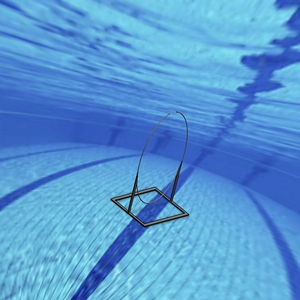circle: (110, 109, 190, 228)
